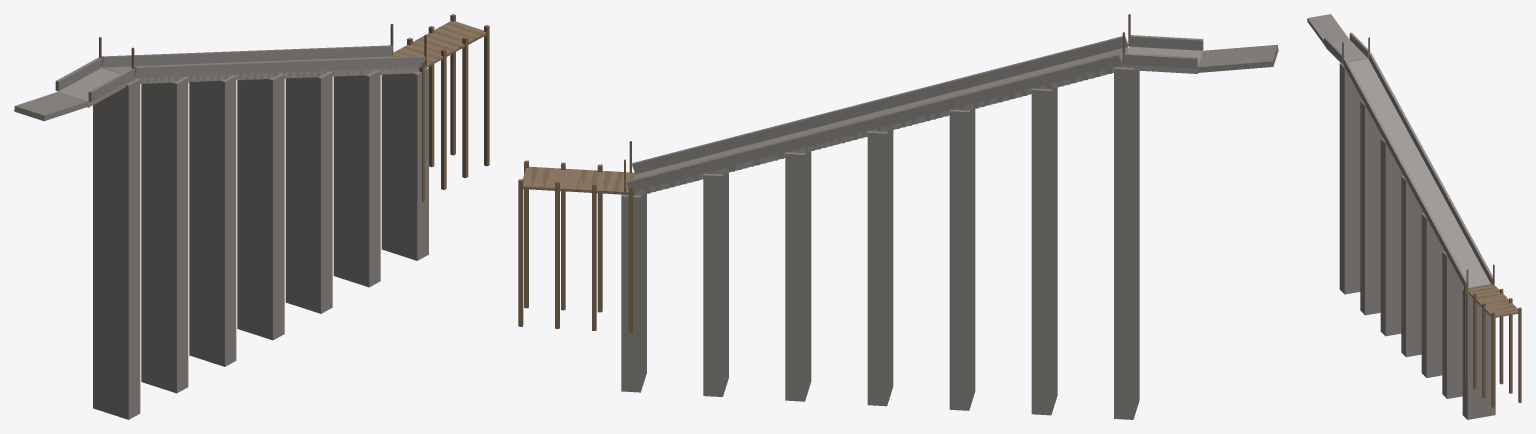
The model's file is ash_landing_obsidian_arch_lod1.glb.
3 renders of one model, left to right at view 1: azimuth 30°, elevation 25°; view 2: azimuth 150°, elevation 25°; view 3: azimuth 270°, elevation 25°, orthographic. The views are drawn at different scales.
Visible parts, largest first — view 1: geometry_0; view 2: geometry_0; view 3: geometry_0.
Boxes of the visible parts, <box> form: geometry_0: <box>14,14,489,419</box>; geometry_0: <box>518,14,1278,419</box>; geometry_0: <box>1307,14,1521,419</box>.
Size of the model in its own units: 58.2 by 34.43 by 26.84.
